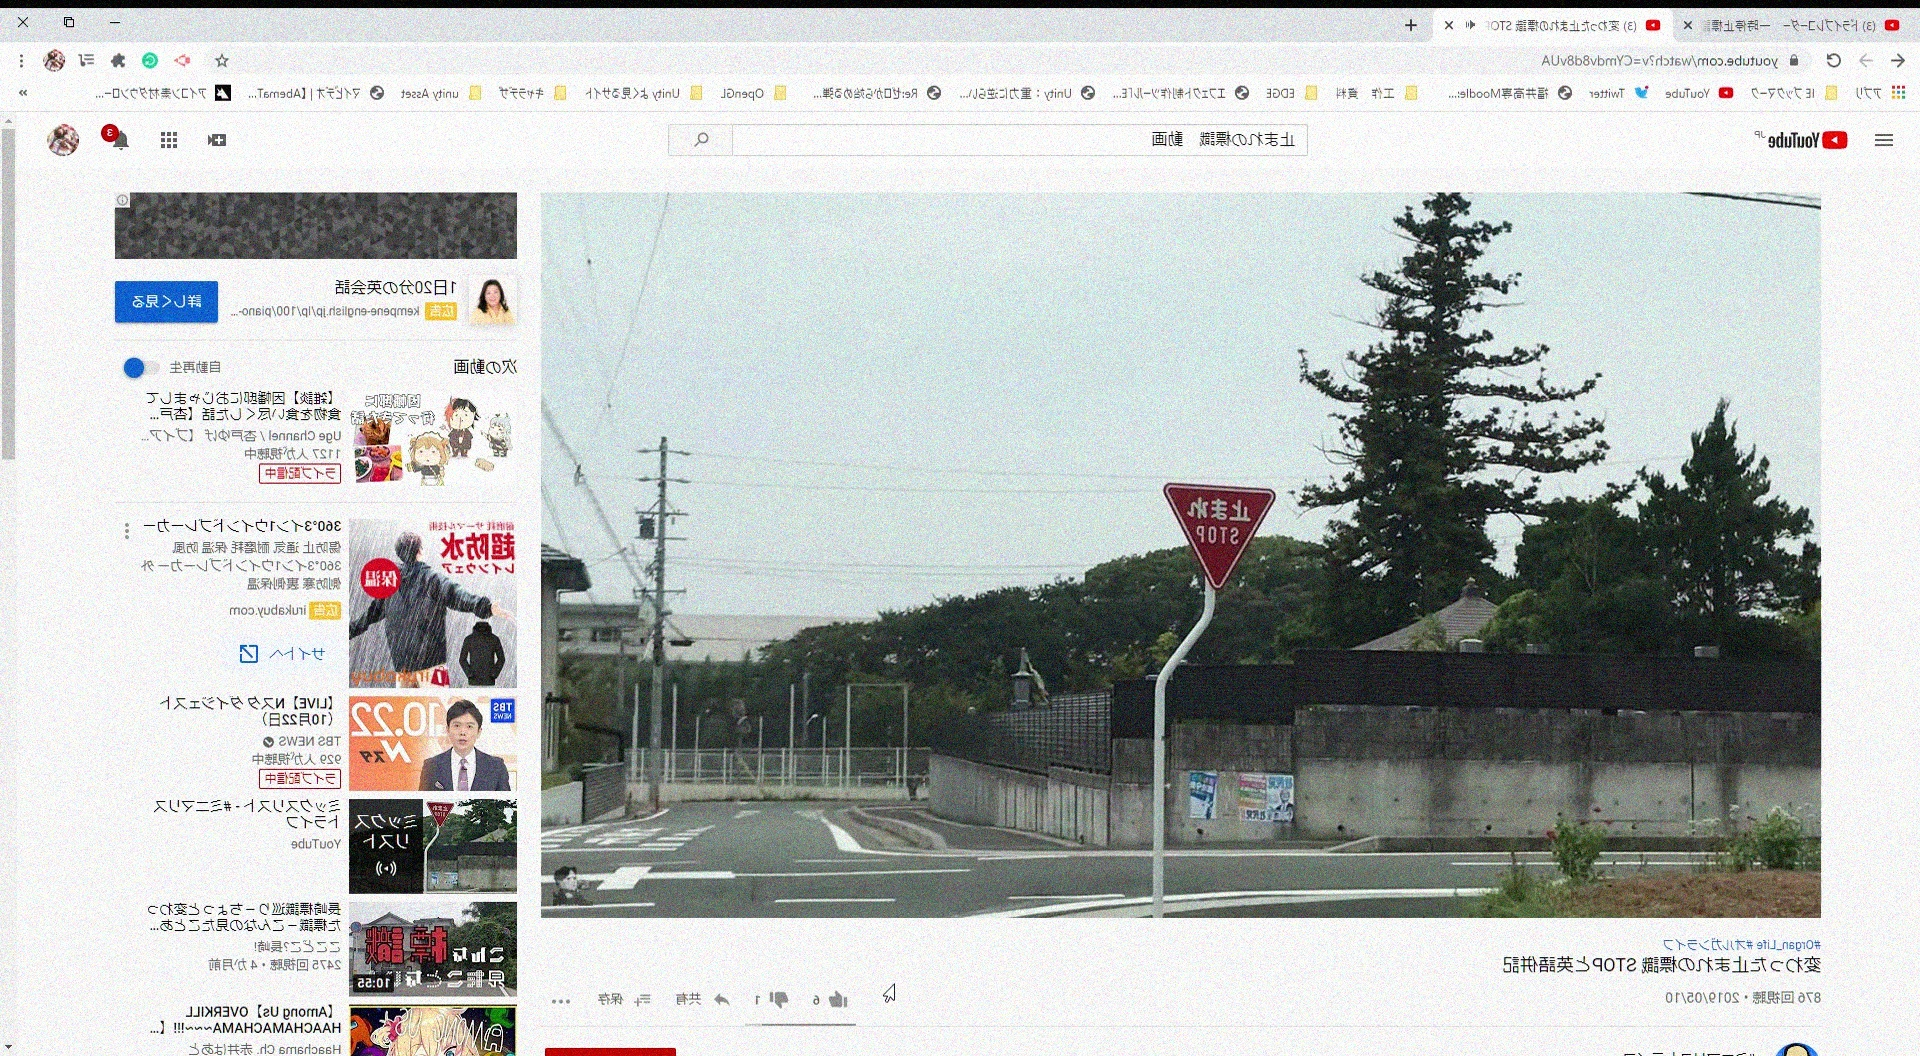Regulatory_sign_triangle: (1156, 467, 1303, 615)
